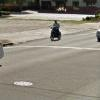Motorcycle: (45, 17, 65, 44)
